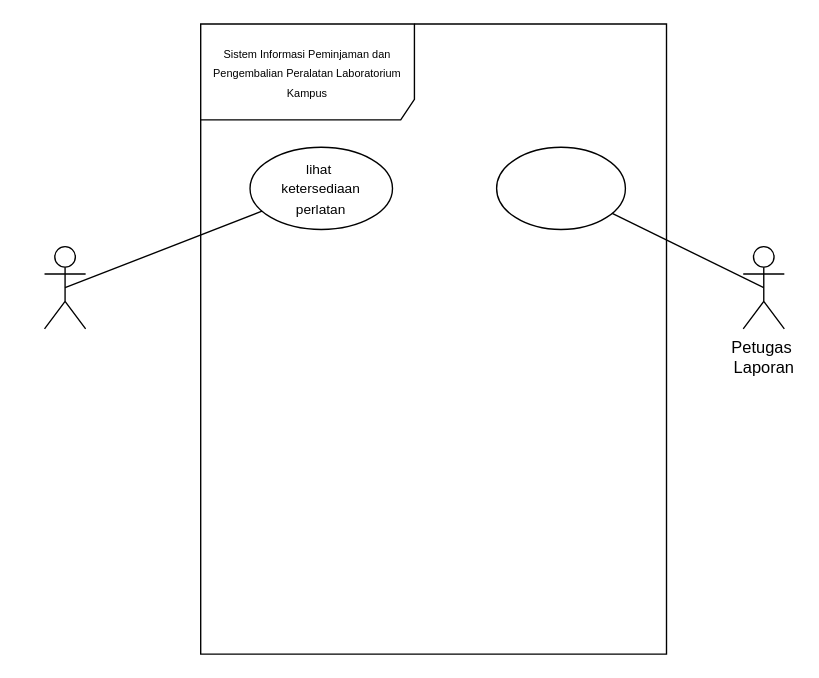
Image size: 819x678. Some labels were removed from this diagram. Here are the shapes that lost their labels. From the top down, the box of each, then its label:
(495, 146, 625, 229): kelola data peralatan
(43, 245, 86, 329): Mahasiswa
